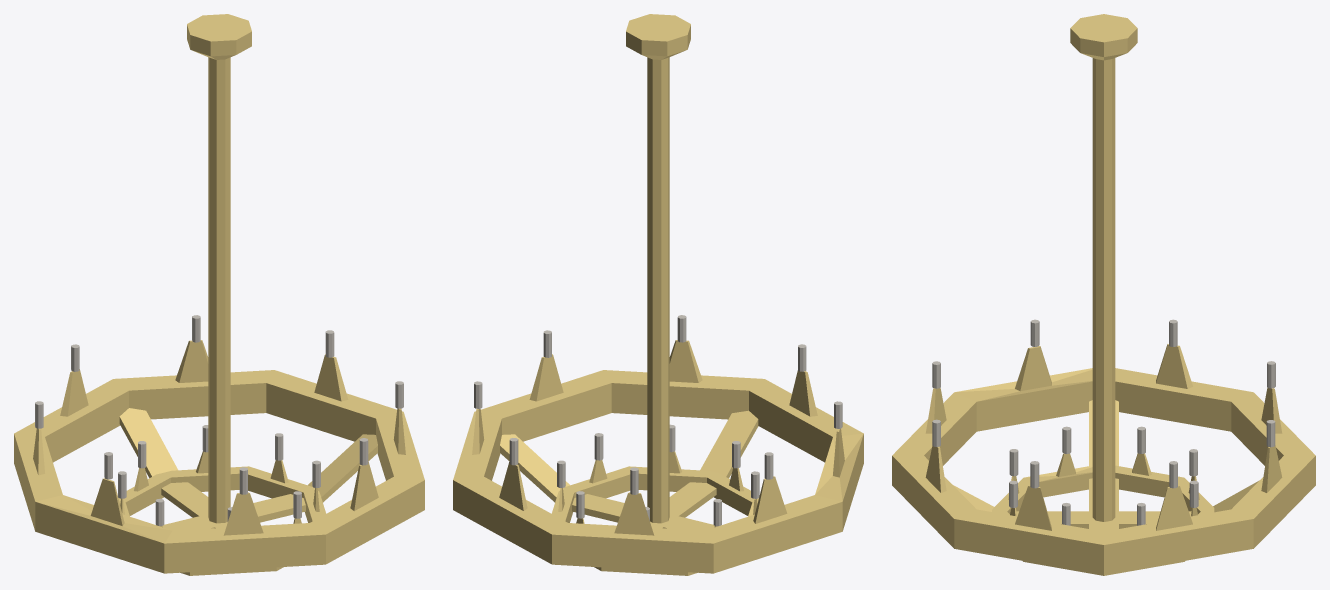
Rendered from Lustre.dae.
The picture shows the model from 3 angles, left to right: view 1: azimuth 30°, elevation 25°; view 2: azimuth 150°, elevation 25°; view 3: azimuth 270°, elevation 25°; orthographic projection.
Visible parts, largest first — view 1: Cilindro; view 2: Cilindro; view 3: Cilindro.
Part boxes in pixels (x1,y1,x2,y2): Cilindro: (14, 14, 424, 575); Cilindro: (453, 14, 863, 575); Cilindro: (892, 14, 1315, 575).
Bounding box in the file's own units: 5.58 × 5.58 × 7.25.
